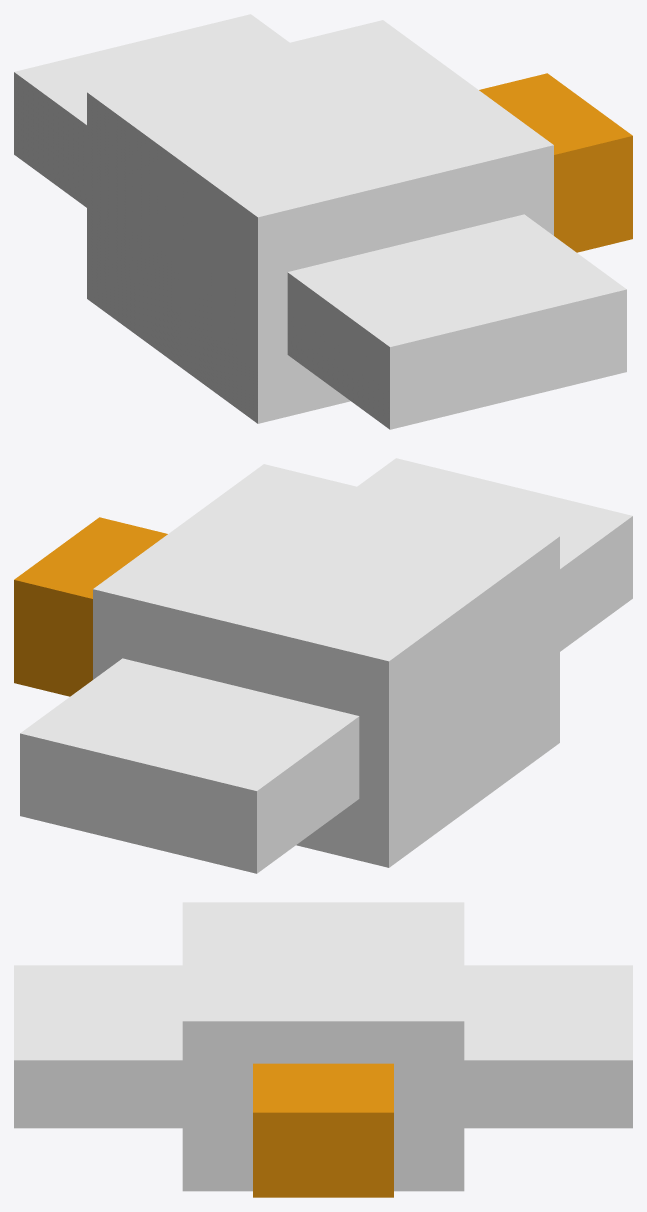
File: seagull.glb
3 renders of one model, top to bottom at view 1: azimuth 30°, elevation 25°; view 2: azimuth 150°, elevation 25°; view 3: azimuth 270°, elevation 25°, orthographic. The views are drawn at different scales.
Visible parts, largest first — view 1: SeagullBody, SeagullWing; view 2: SeagullBody, SeagullWing; view 3: SeagullBody, SeagullWing.
Boxes of the visible parts, box(x1,y1,x2,y2) form: SeagullBody: box(87, 20, 632, 423); SeagullWing: box(14, 14, 626, 429); SeagullBody: box(14, 464, 559, 867); SeagullWing: box(20, 458, 632, 873); SeagullBody: box(182, 902, 464, 1197); SeagullWing: box(14, 965, 632, 1128).
Size of the model in its own units: 0.0508 by 0.024 by 0.0792.
